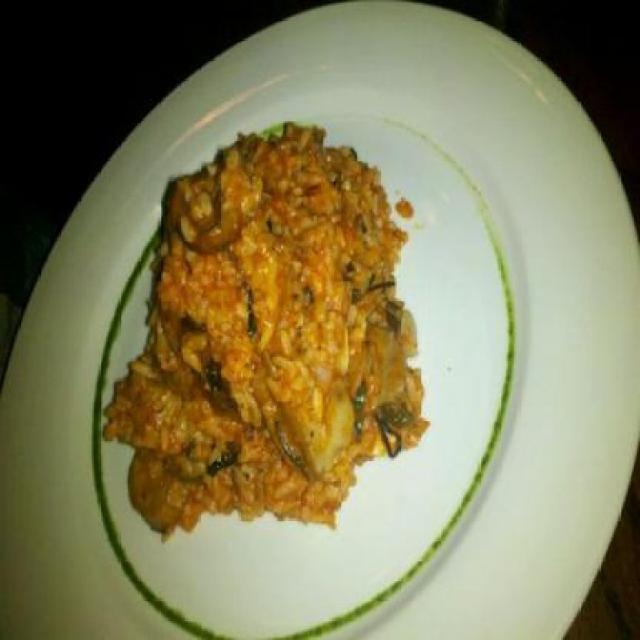Risotto: (91, 124, 434, 538)
